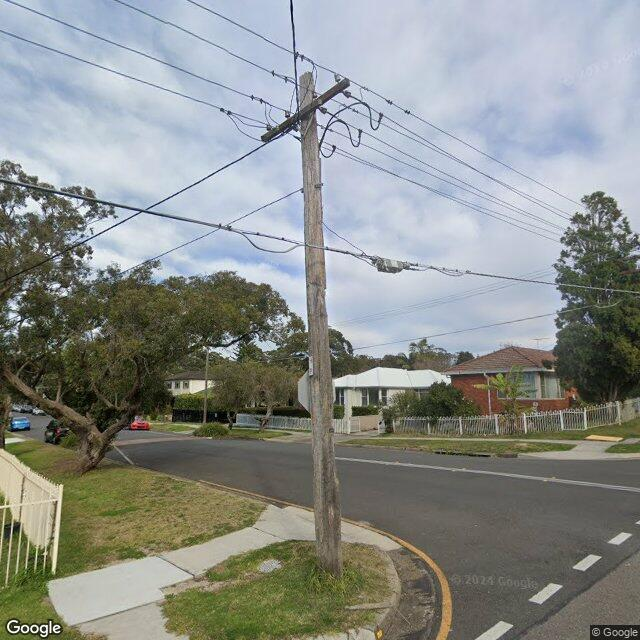crossarm: (260, 75, 350, 144)
timber-pole: (296, 70, 342, 576), (203, 346, 209, 426)
